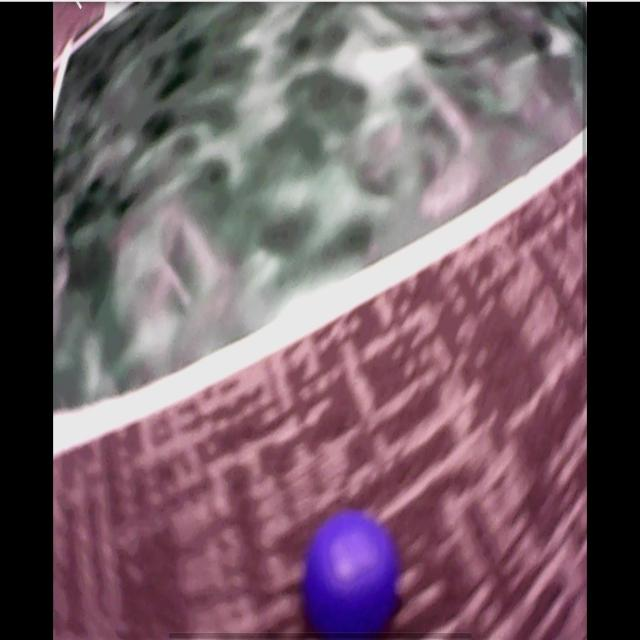ball: (305, 513, 394, 640)
